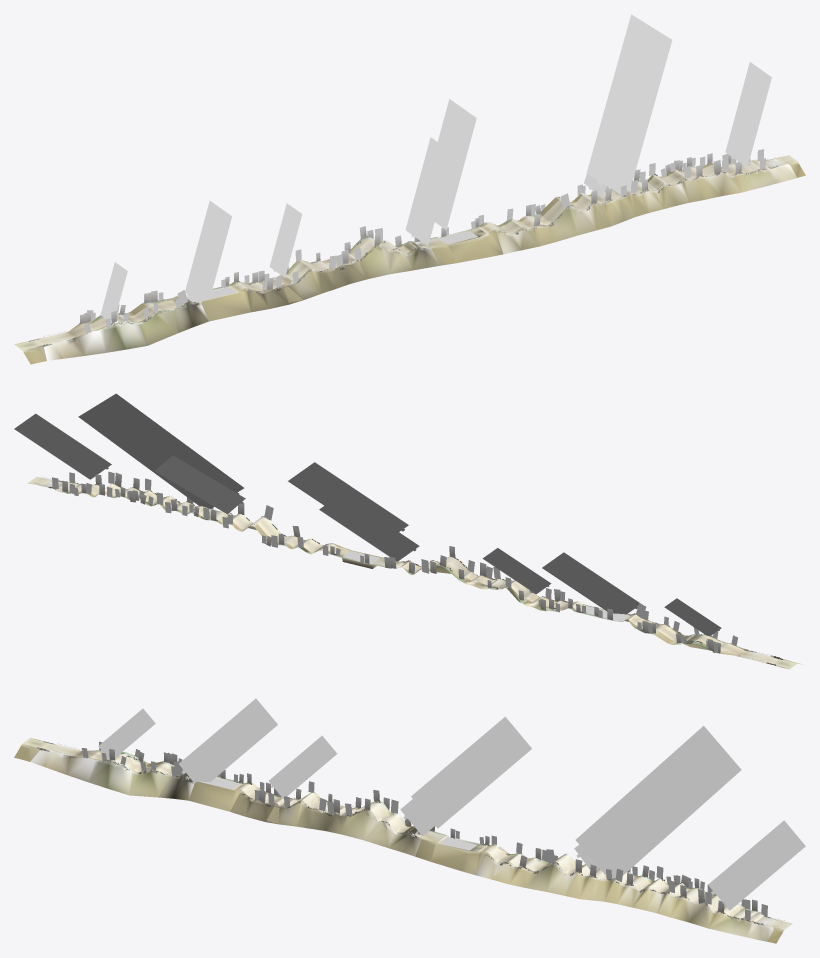
File: Beach_09.fbx
3 renders of one model, top to bottom at view 1: azimuth 30°, elevation 25°; view 2: azimuth 150°, elevation 25°; view 3: azimuth 330°, elevation 25°, orthographic.
Visible parts, largest first — view 1: Light_01, Mountain_01, Tree_01, Road_01, Ground_01; view 2: Light_01, Tree_01, Ground_01, Road_01; view 3: Light_01, Mountain_01, Tree_01, Road_01, Ground_01, Sea_01.
Boxes of the visible parts, bbox=[...] form: Light_01: bbox=[100, 14, 771, 322]; Mountain_01: bbox=[44, 164, 796, 360]; Tree_01: bbox=[41, 149, 779, 346]; Road_01: bbox=[14, 155, 805, 364]; Ground_01: bbox=[15, 156, 796, 350]; Light_01: bbox=[14, 393, 721, 635]; Tree_01: bbox=[48, 471, 780, 658]; Ground_01: bbox=[28, 477, 797, 668]; Road_01: bbox=[27, 477, 799, 669]; Light_01: bbox=[98, 698, 805, 910]; Mountain_01: bbox=[30, 750, 773, 941]; Tree_01: bbox=[39, 741, 771, 925]; Road_01: bbox=[14, 738, 792, 943]; Ground_01: bbox=[22, 738, 791, 929]; Sea_01: bbox=[200, 778, 477, 850].
Size of the model in its own units: 71508 by 14500 by 8475.
